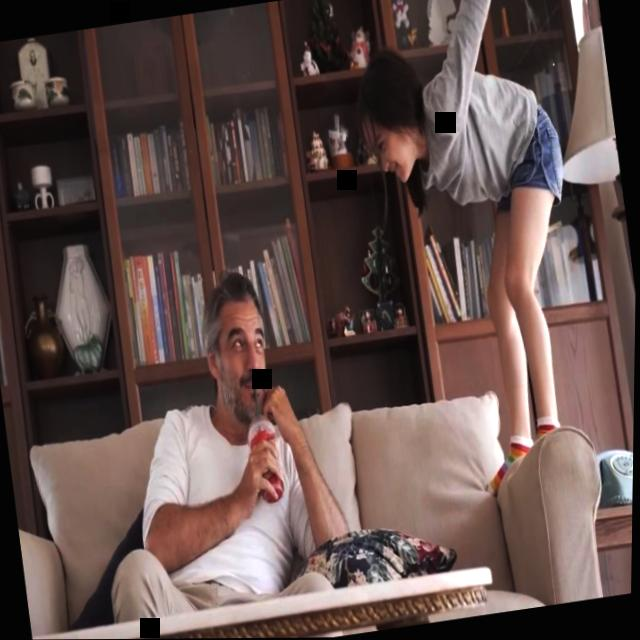NO-Mask: (212, 304, 278, 426), (360, 109, 418, 190)
